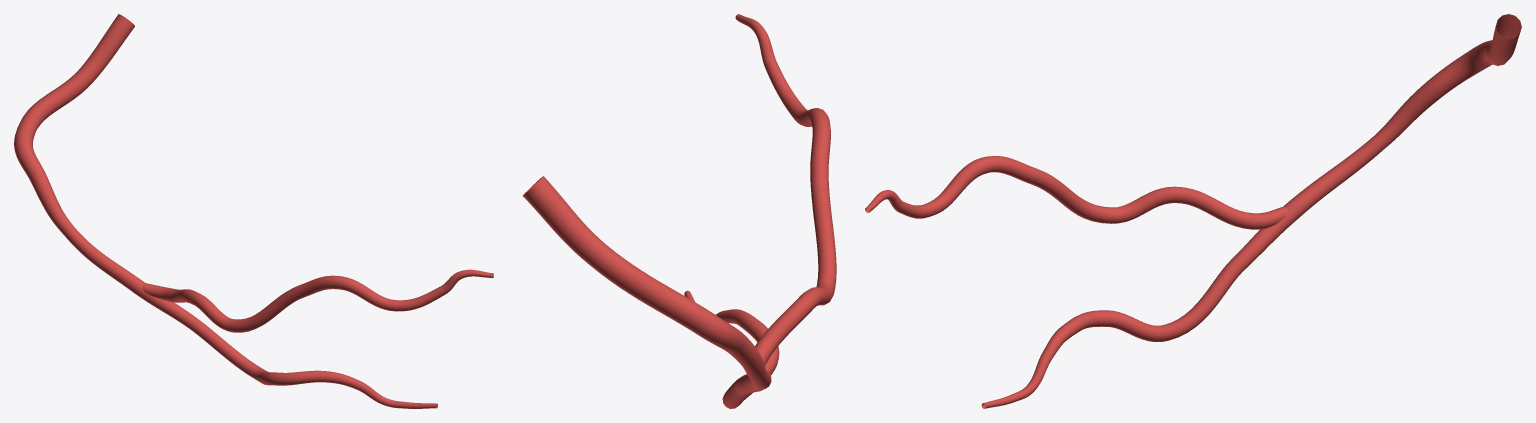
3 views of the same model, side by side, from view 1: azimuth 30°, elevation 25°; view 2: azimuth 150°, elevation 25°; view 3: azimuth 270°, elevation 25° (orthographic). The views are drawn at different scales.
Visible parts, largest first — view 1: 右侧前额动脉; view 2: 右侧前额动脉; view 3: 右侧前额动脉.
Part boxes in pixels (left/top/right/bottom): 右侧前额动脉: left=14, top=14, right=493, bottom=408; 右侧前额动脉: left=522, top=14, right=836, bottom=408; 右侧前额动脉: left=865, top=14, right=1521, bottom=408.
Size of the model in its own units: 0.0424 by 0.0458 by 0.0812.
